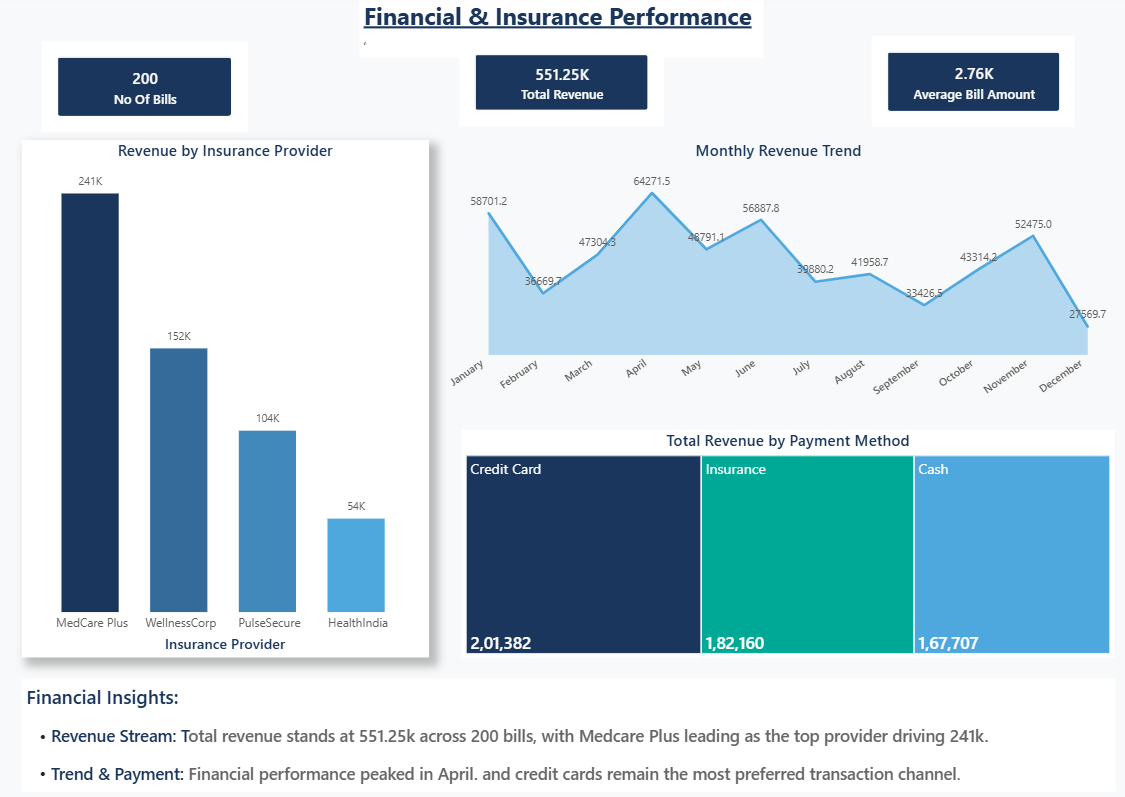

What the dashboard file says about the page in this screenshot:
{"tool":"powerbi","page":{"name":"Financial perforamnce","canvas":[1280,910],"ordinal":1},"visuals":[{"type":"textbox","box":[412.5,0,454.9,70.4],"z":0},{"type":"cardVisual","fields":{"Data":["billing.Total Bills"]},"box":[54.5,51.8,231.8,102.3],"z":1000},{"type":"cardVisual","fields":{"Data":["billing.Average Bill Amount"]},"box":[988.4,46.4,229,102.3],"z":2000},{"type":"cardVisual","fields":{"Data":["billing.Total Revenue"]},"box":[524.9,49.1,230.4,98.2],"z":3000},{"type":"clusteredColumnChart","title":"Revenue by Insurance Provider","fields":{"Category":["patients.insurance_provider"],"Y":["Sum(billing.amount)"]},"box":[32.7,163.6,458.1,582.1],"z":4000},{"type":"areaChart","title":"Monthly Revenue Trend","fields":{"Category":["appointments.appointment_date.Variation.Date Hierarchy.Month"],"Y":["Sum(billing.amount)"]},"box":[507.2,163.6,755.3,308.1],"z":5000},{"type":"treemap","title":"Total Revenue by Payment  Method","fields":{"Group":["billing.payment_method"],"Values":["billing.Total Revenue"]},"box":[527.6,489.4,734.8,256.3],"z":6000},{"type":"textbox","box":[32.6,769.2,1231.3,127.2],"z":7000}]}

Visuals, with their boxes in screenshot pixels (x1, y1, x2, y2), scaled from the page's 1280x910 canvas onto the 1125x797 screenshot:
textbox: Rect(363, 0, 762, 62)
cardVisual - billing.Total Bills: Rect(48, 45, 252, 135)
cardVisual - billing.Average Bill Amount: Rect(869, 41, 1070, 130)
cardVisual - billing.Total Revenue: Rect(461, 43, 664, 129)
"Revenue by Insurance Provider" clusteredColumnChart: Rect(29, 143, 431, 653)
"Monthly Revenue Trend" areaChart: Rect(446, 143, 1110, 413)
"Total Revenue by Payment  Method" treemap: Rect(464, 429, 1110, 653)
textbox: Rect(29, 674, 1111, 785)
